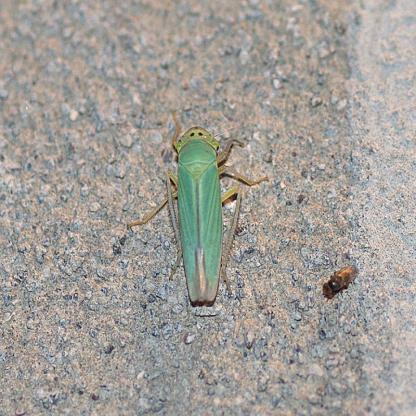Green-Leafhopper: (127, 126, 272, 310)
